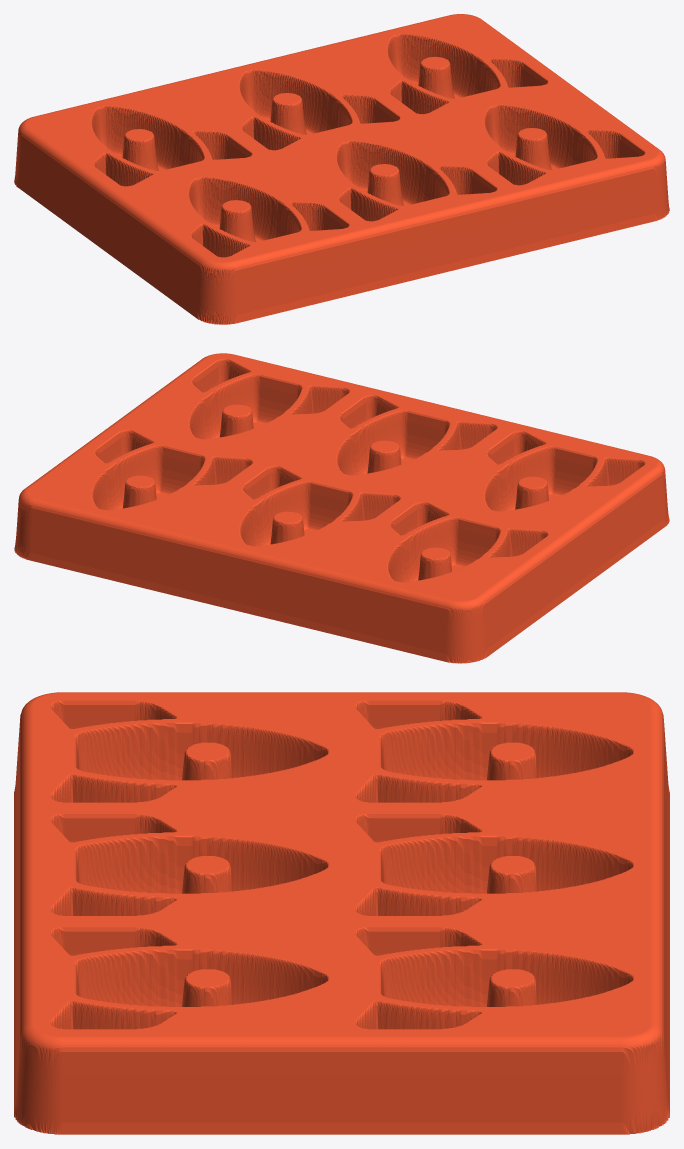
Rendered from mold.glb.
3 views of the same model, one above another, from view 1: azimuth 30°, elevation 25°; view 2: azimuth 150°, elevation 25°; view 3: azimuth 270°, elevation 25° (orthographic). The views are drawn at different scales.
Visible parts, largest first — view 1: geometry_0; view 2: geometry_0; view 3: geometry_0.
Boxes of the visible parts, <box> form: geometry_0: <box>14,14,669,324</box>; geometry_0: <box>14,353,669,663</box>; geometry_0: <box>14,692,669,1134</box>.
Bounding box in the file's own units: 0.1585 × 0.0185 × 0.1222.
